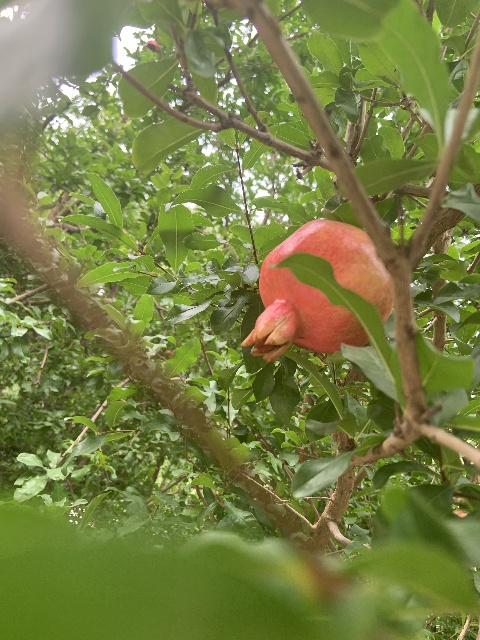ripe: (239, 219, 393, 361)
